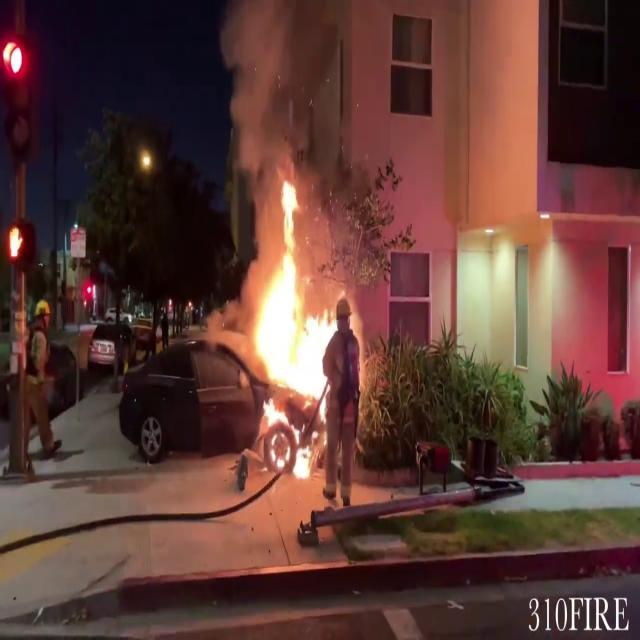Fire: (245, 178, 342, 482)
Smoke: (218, 0, 349, 214)
